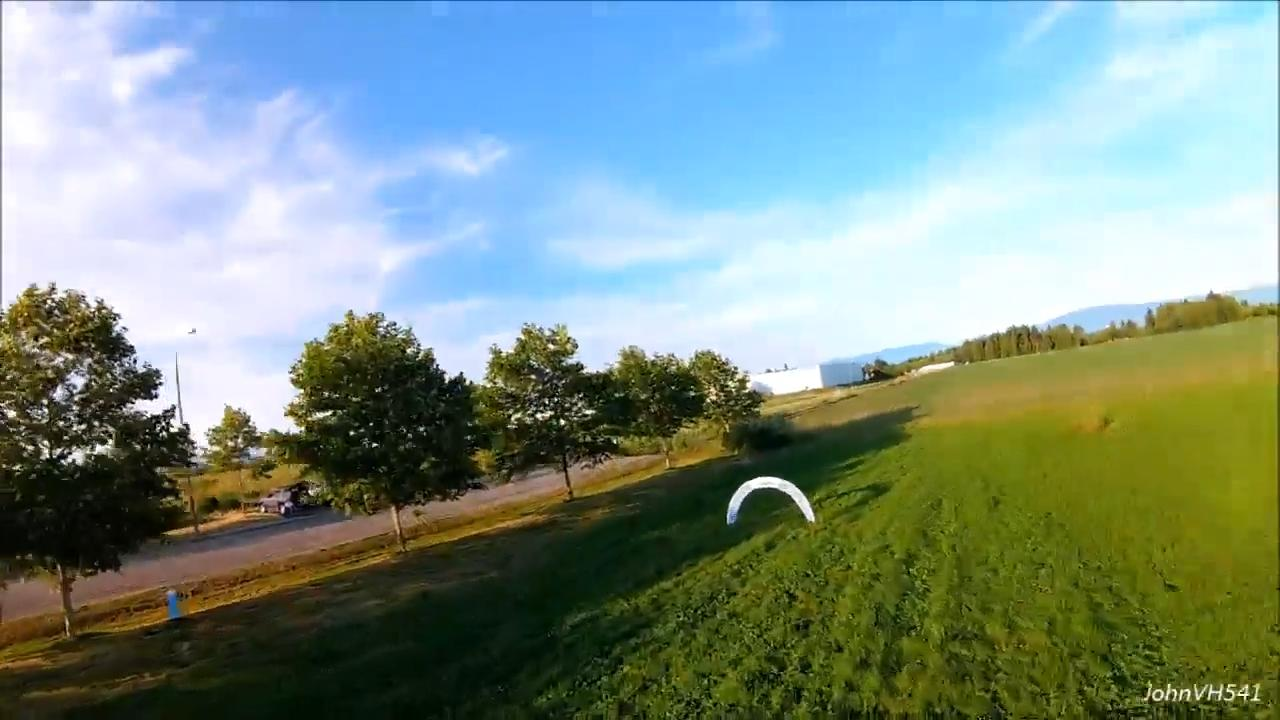gate: (722, 476, 816, 523)
